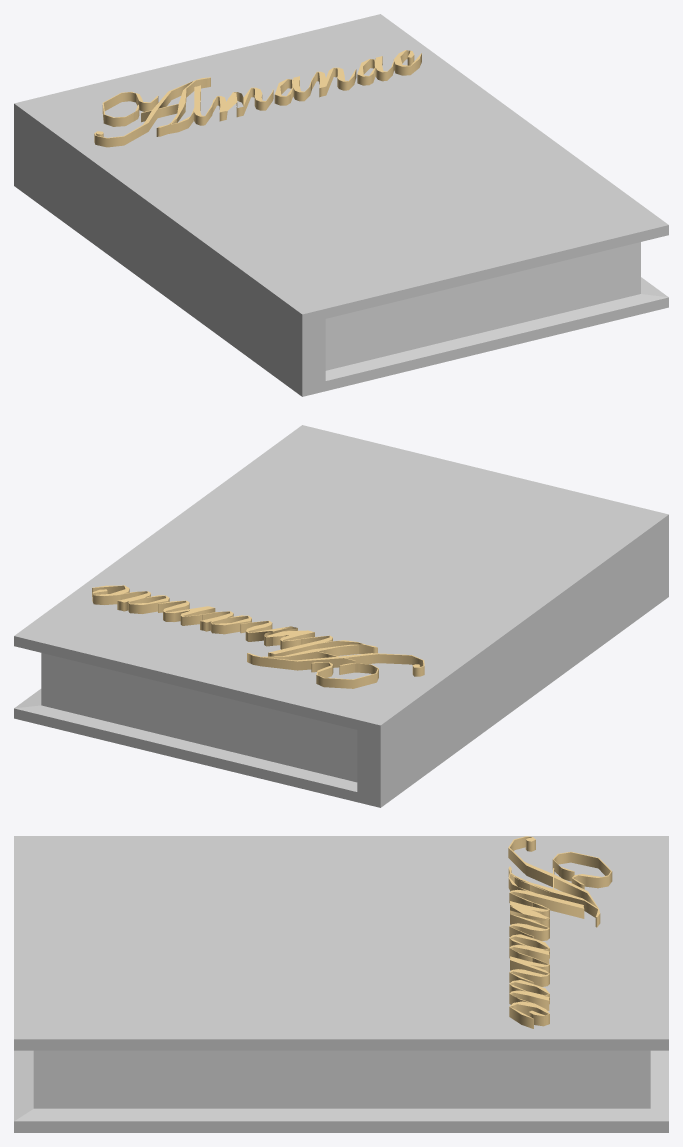
The model's file is almanac_closed_ud.fbx.
3 renders of one model, top to bottom at view 1: azimuth 30°, elevation 25°; view 2: azimuth 150°, elevation 25°; view 3: azimuth 270°, elevation 25°, orthographic. The views are drawn at different scales.
Parts seen in each view (by area): view 1: Cube.001; view 2: Cube.001; view 3: Cube.001.
Boxes of the visible parts, left/top/right/bottom form: Cube.001: left=14, top=14, right=668, bottom=396; Cube.001: left=14, top=425, right=668, bottom=807; Cube.001: left=14, top=836, right=668, bottom=1132.
Size of the model in its own units: 147 by 35.01 by 200.
